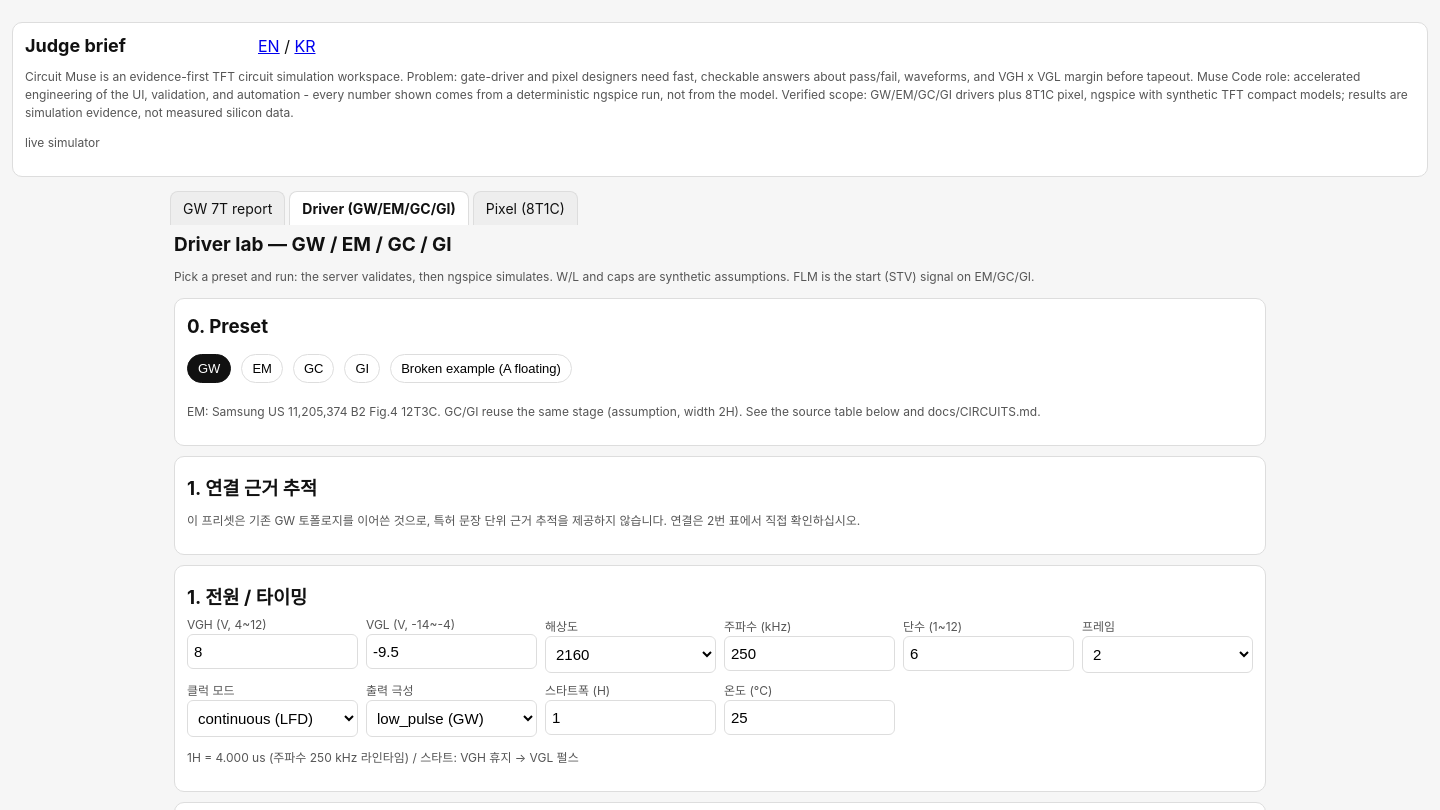
lab page › broken preset flips T2.D to C
The width and height of the screenshot is (1440, 810).
Click the button "Broken example (A floating)": (481, 368) top-left (390, 354), bottom-right (572, 383)
(page scrolled)
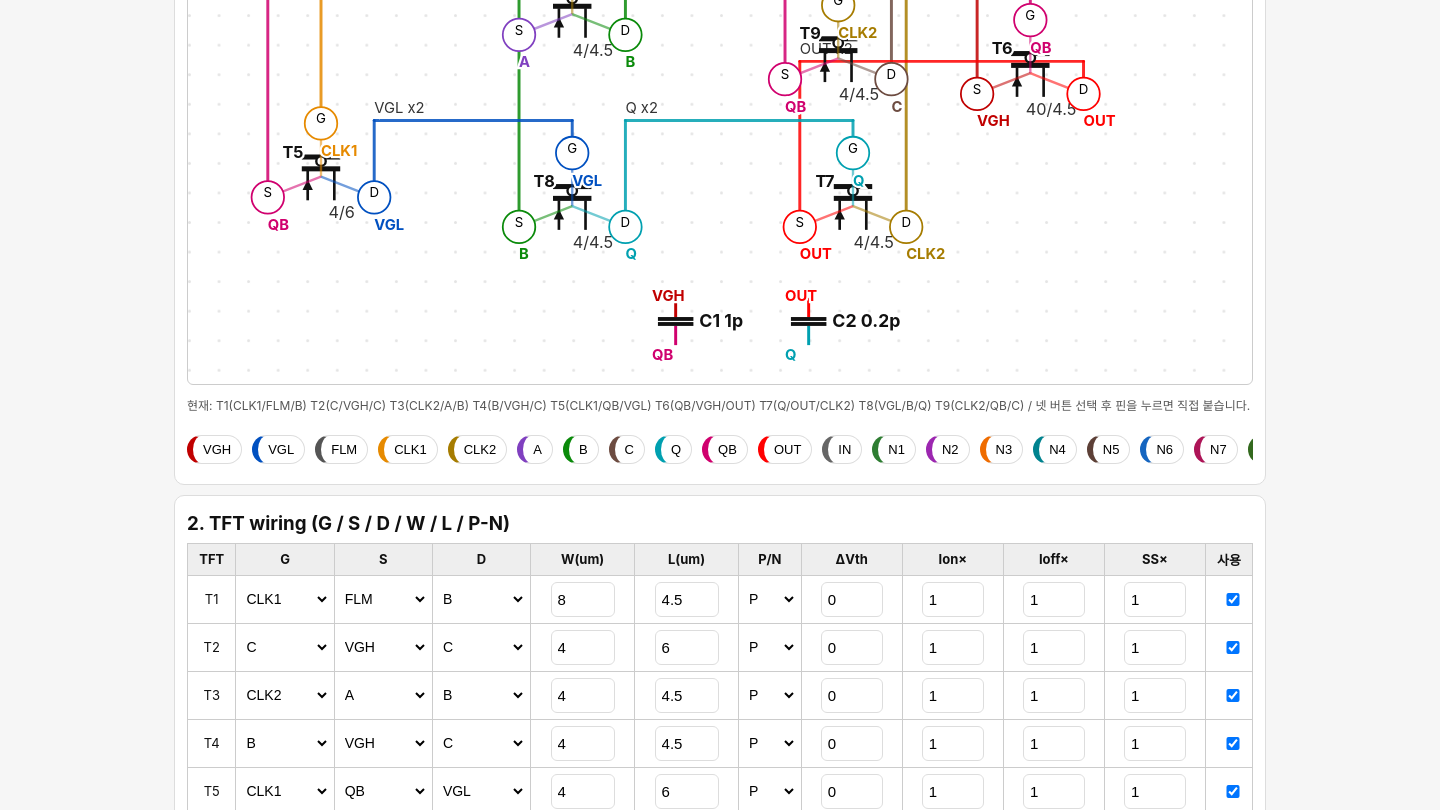
expect the text "T2(C/VGH/C)" is shown: met, box top-left (187, 398), bottom-right (1250, 412)
